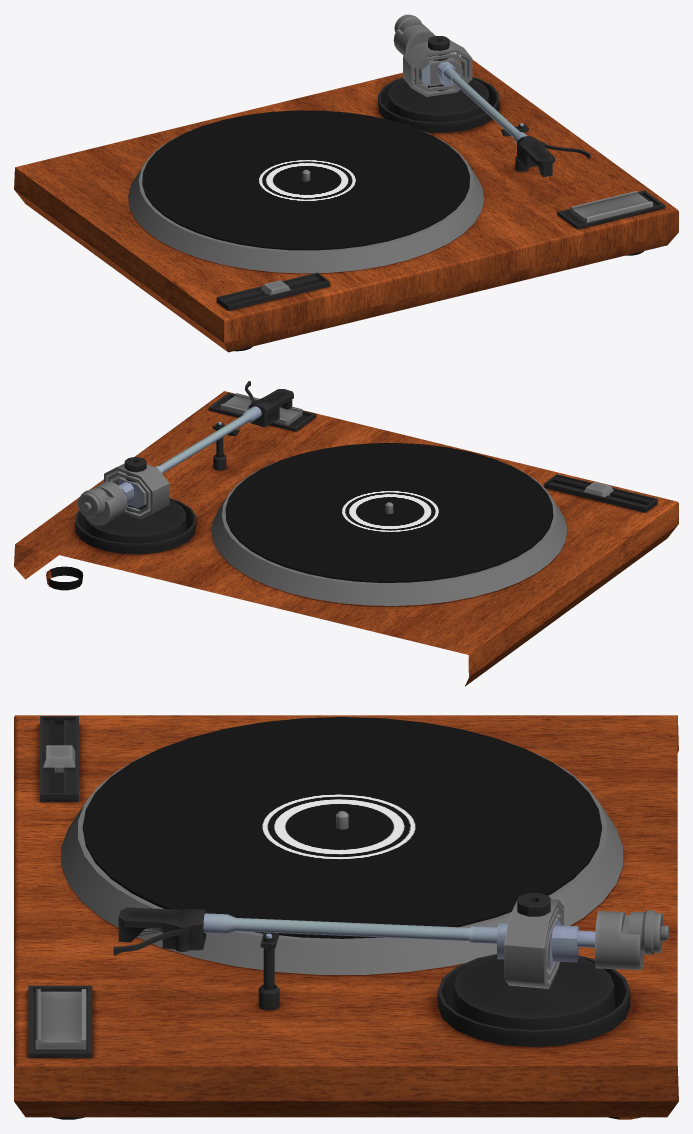
File: record_player.fbx
3 views of the same model, one above another, from view 1: azimuth 30°, elevation 25°; view 2: azimuth 150°, elevation 25°; view 3: azimuth 270°, elevation 25° (orthographic). The views are drawn at different scales.
Visible parts, largest first — view 1: node_49a4f06f_d860_48d4_8d8d_5d5dcb8824f0_mesh0, node_61fd6250_22e7_4d36_ad04_f4949a7713d6_mesh0, node_bd81f3ce_0739_4b1f_b9ac_b77c59a187ed_mesh0; view 2: node_49a4f06f_d860_48d4_8d8d_5d5dcb8824f0_mesh0, node_61fd6250_22e7_4d36_ad04_f4949a7713d6_mesh0, node_bd81f3ce_0739_4b1f_b9ac_b77c59a187ed_mesh0; view 3: node_49a4f06f_d860_48d4_8d8d_5d5dcb8824f0_mesh0, node_61fd6250_22e7_4d36_ad04_f4949a7713d6_mesh0, node_bd81f3ce_0739_4b1f_b9ac_b77c59a187ed_mesh0.
Part boxes in pixels (x1,y1,x2,y2): node_49a4f06f_d860_48d4_8d8d_5d5dcb8824f0_mesh0: (14, 36, 678, 352); node_61fd6250_22e7_4d36_ad04_f4949a7713d6_mesh0: (128, 110, 484, 273); node_bd81f3ce_0739_4b1f_b9ac_b77c59a187ed_mesh0: (393, 14, 590, 177); node_49a4f06f_d860_48d4_8d8d_5d5dcb8824f0_mesh0: (14, 391, 678, 686); node_61fd6250_22e7_4d36_ad04_f4949a7713d6_mesh0: (211, 443, 567, 605); node_bd81f3ce_0739_4b1f_b9ac_b77c59a187ed_mesh0: (77, 381, 293, 525); node_49a4f06f_d860_48d4_8d8d_5d5dcb8824f0_mesh0: (14, 715, 678, 1119); node_61fd6250_22e7_4d36_ad04_f4949a7713d6_mesh0: (61, 717, 623, 974); node_bd81f3ce_0739_4b1f_b9ac_b77c59a187ed_mesh0: (113, 896, 668, 988).
Size of the model in its own units: 10359 by 2416 by 8287.
Materials: 1 (1 with a texture image).
